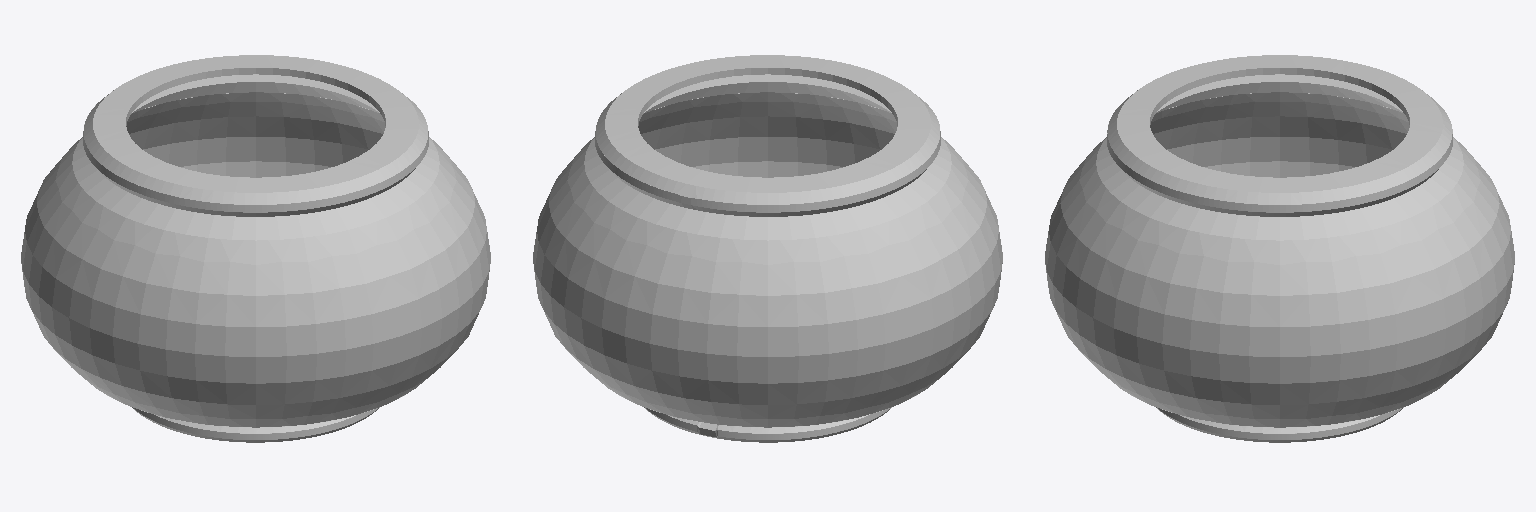
Rendered from Fish_&_Bowl.obj.
The picture shows the model from 3 angles: view 1: azimuth 30°, elevation 25°; view 2: azimuth 150°, elevation 25°; view 3: azimuth 270°, elevation 25°; orthographic projection.
Visible parts, largest first — view 1: revolvedSurface1; view 2: revolvedSurface1; view 3: revolvedSurface1.
Boxes of the visible parts, x1,y1,x2,y2 form: revolvedSurface1: [21, 55, 490, 442]; revolvedSurface1: [533, 55, 1002, 442]; revolvedSurface1: [1045, 55, 1514, 442].
Size of the model in its own units: 25.33 by 15.83 by 25.33.